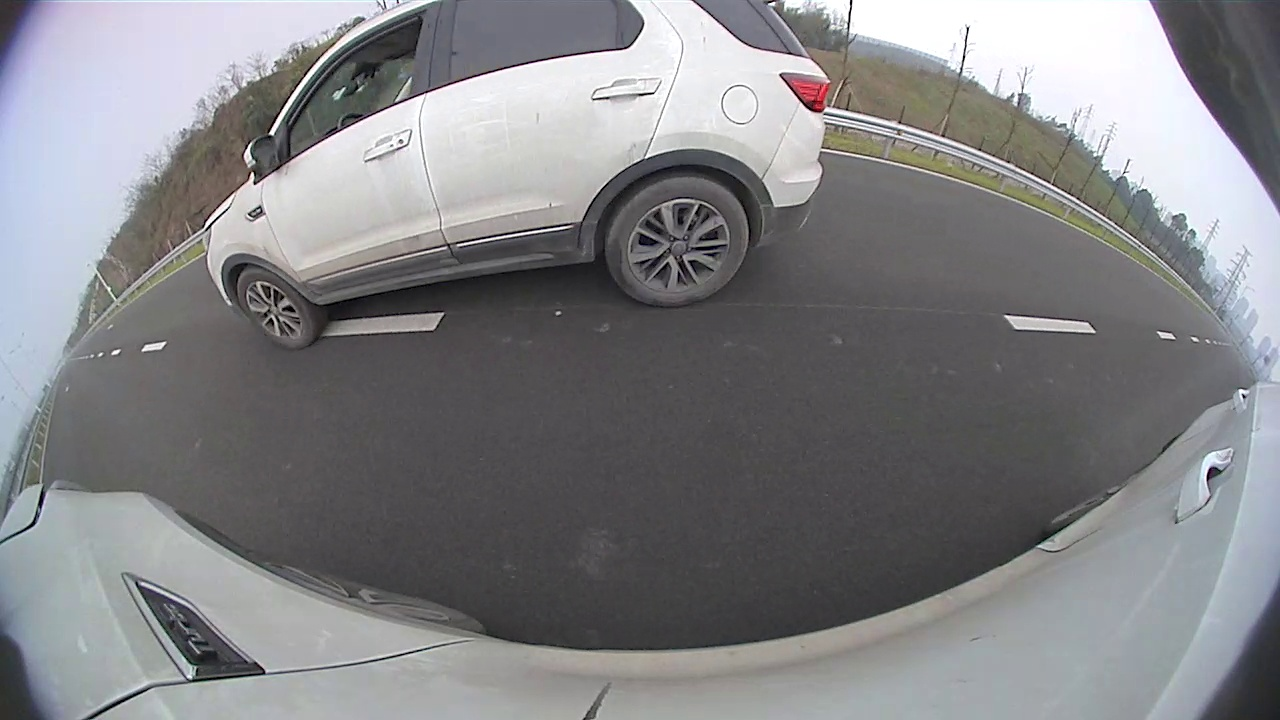car: (202, 1, 830, 348)
front: (230, 258, 324, 357)
rear: (598, 168, 755, 317)
